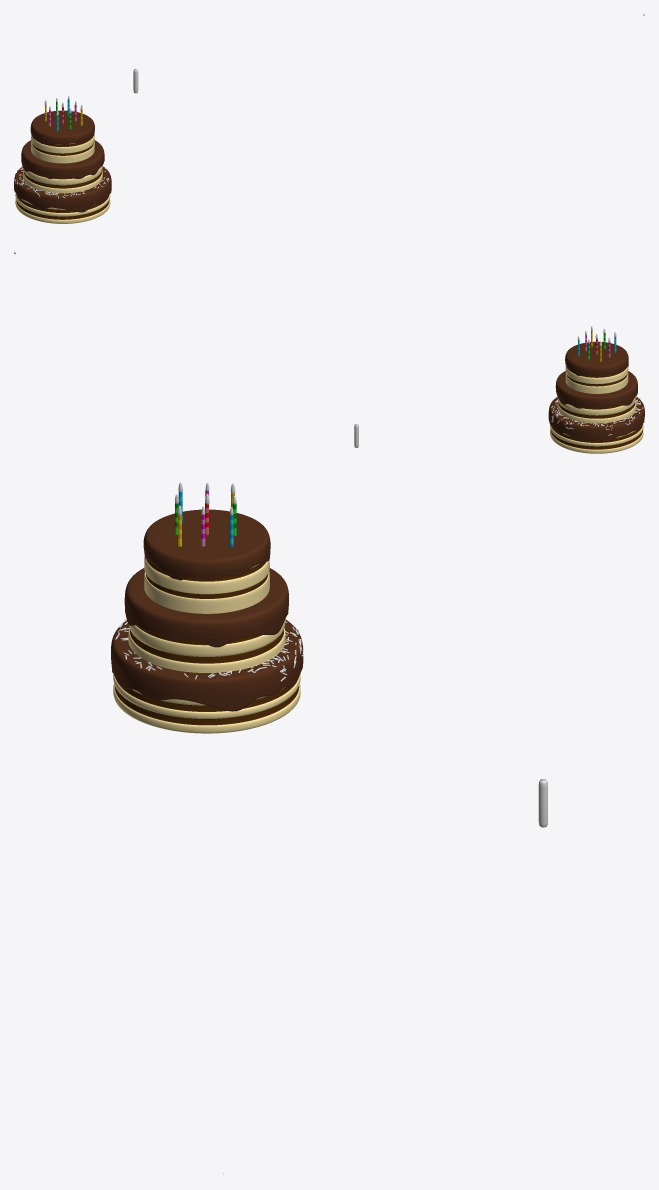
Rendered from uploads_files_3407001_Birthday+Cake.fbx.
3 renders of one model, top to bottom at view 1: azimuth 30°, elevation 25°; view 2: azimuth 150°, elevation 25°; view 3: azimuth 270°, elevation 25°, orthographic. The views are drawn at different scales.
Visible parts, largest first — view 1: Cylinder, Cylinder.001, Cylinder.003, Cylinder.002; view 2: Cylinder, Cylinder.001, Cylinder.003, Cylinder.002; view 3: Cylinder, Cylinder.001, Cylinder.003, Cylinder.002.
Boxes of the visible parts, x1=… form: Cylinder: x1=15, y1=134, x2=110, y2=223; Cylinder.001: x1=14, y1=166, x2=111, y2=212; Cylinder.003: x1=30, y1=110, x2=94, y2=144; Cylinder.002: x1=21, y1=140, x2=104, y2=178; Cylinder: x1=550, y1=365, x2=643, y2=453; Cylinder.001: x1=548, y1=397, x2=644, y2=442; Cylinder.003: x1=565, y1=341, x2=628, y2=376; Cylinder.002: x1=555, y1=371, x2=637, y2=409; Cylinder: x1=113, y1=556, x2=300, y2=733; Cylinder.001: x1=111, y1=619, x2=303, y2=711; Cylinder.003: x1=143, y1=509, x2=270, y2=580; Cylinder.002: x1=124, y1=568, x2=288, y2=647.
Size of the model in its own units: 1517 by 236 by 463.
